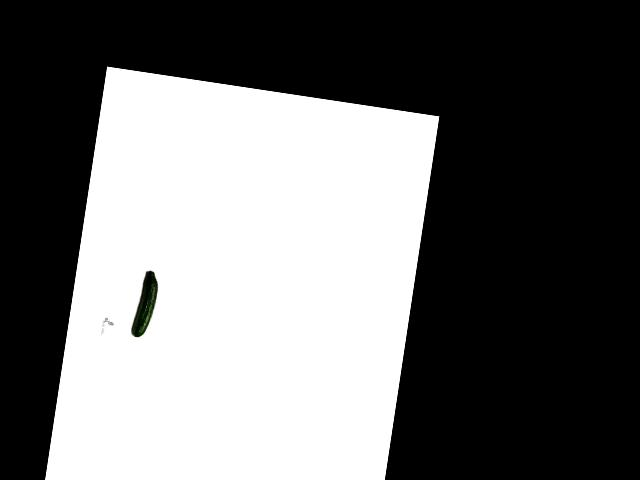cucumber: (131, 269, 159, 339)
